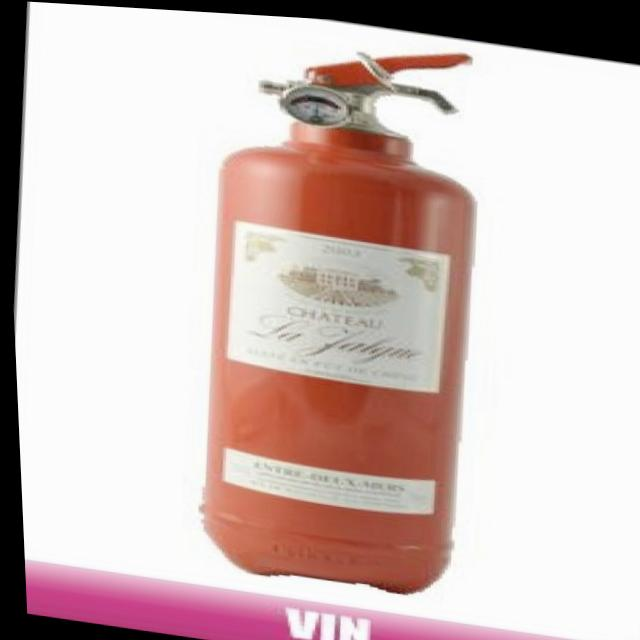FireExtinguisher: (158, 7, 512, 604)
